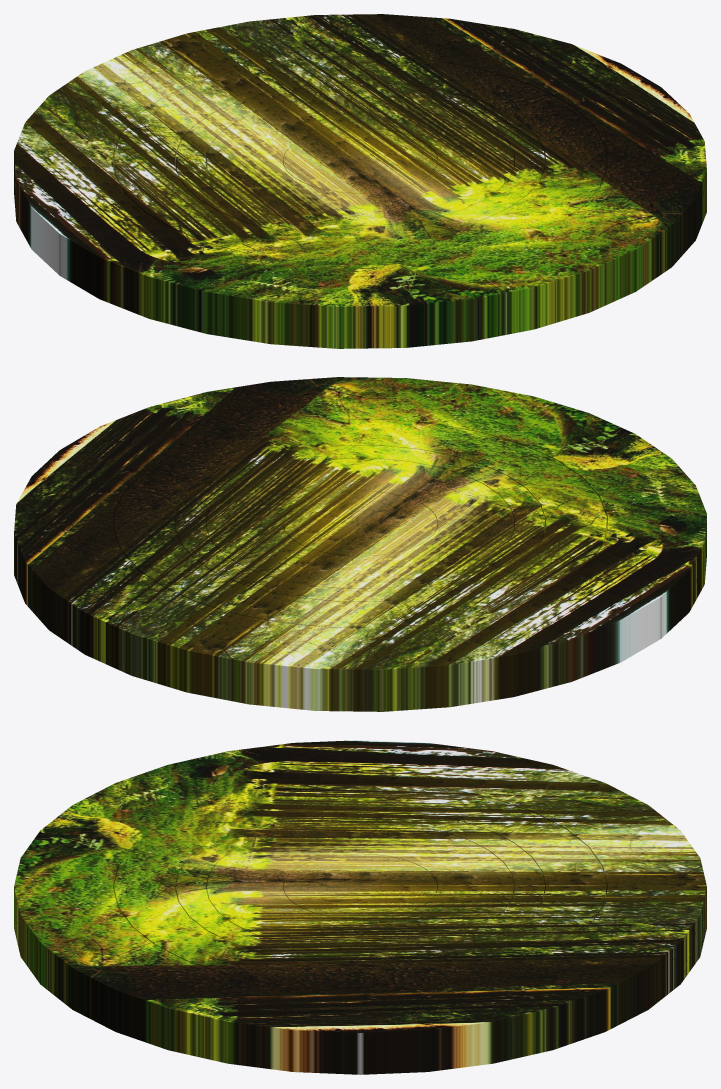
Rendered from puzzle1.fbx.
3 renders of one model, top to bottom at view 1: azimuth 30°, elevation 25°; view 2: azimuth 150°, elevation 25°; view 3: azimuth 270°, elevation 25°, orthographic.
Parts seen in each view (by area): view 1: Face4, Face3, Face1, Face2, Center; view 2: Face4, Face3, Face1, Face2, Center; view 3: Face4, Face3, Face1, Face2, Center.
Boxes of the visible parts, x1=… form: Face4: x1=14, y1=14, x2=706, y2=348; Face3: x1=114, y1=56, x2=606, y2=265; Face1: x1=206, y1=95, x2=514, y2=225; Face2: x1=175, y1=82, x2=545, y2=238; Center: x1=283, y1=128, x2=437, y2=193; Face4: x1=14, y1=377, x2=706, y2=711; Face3: x1=114, y1=419, x2=606, y2=628; Face1: x1=206, y1=458, x2=514, y2=588; Face2: x1=175, y1=445, x2=545, y2=601; Center: x1=283, y1=491, x2=437, y2=556; Face4: x1=14, y1=740, x2=706, y2=1074; Face3: x1=114, y1=782, x2=606, y2=991; Face1: x1=206, y1=821, x2=514, y2=951; Face2: x1=175, y1=808, x2=545, y2=964; Center: x1=283, y1=854, x2=437, y2=919.
Bounding box in the file's own units: 900 × 63.69 × 900.
1 material, 1 textured.
